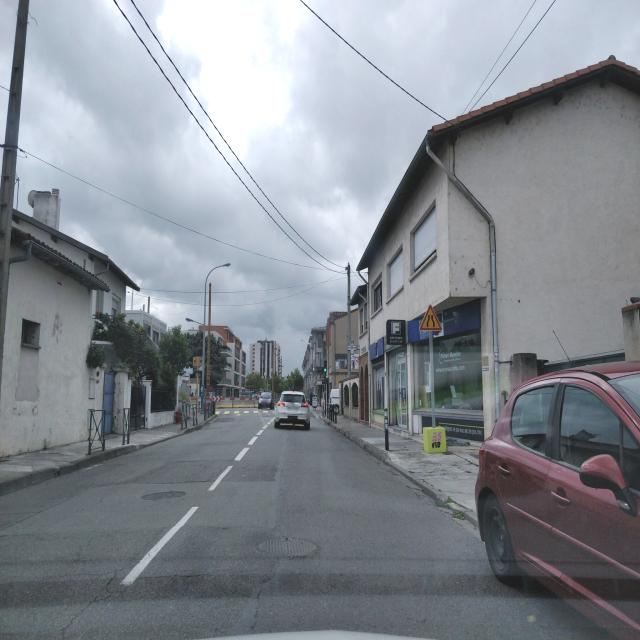car: (474, 361, 640, 639), (274, 390, 310, 430), (258, 390, 274, 410)
